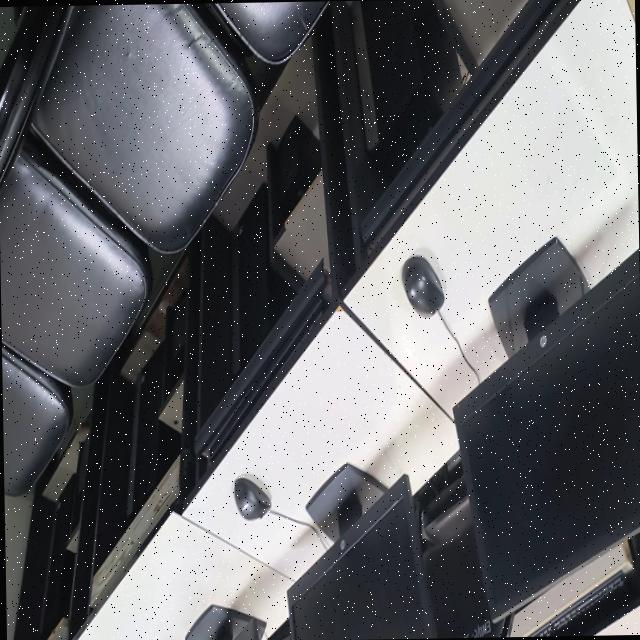Chair: (0, 0, 327, 383), (419, 455, 509, 638), (0, 342, 72, 495)
Cpu: (350, 0, 461, 179), (230, 185, 294, 374), (125, 341, 179, 517), (39, 473, 79, 636)
Keyboard: (525, 570, 639, 636)
Monitor: (452, 237, 640, 613), (286, 464, 435, 640), (184, 604, 265, 640)
Mouse: (401, 257, 443, 316), (234, 477, 269, 519)
